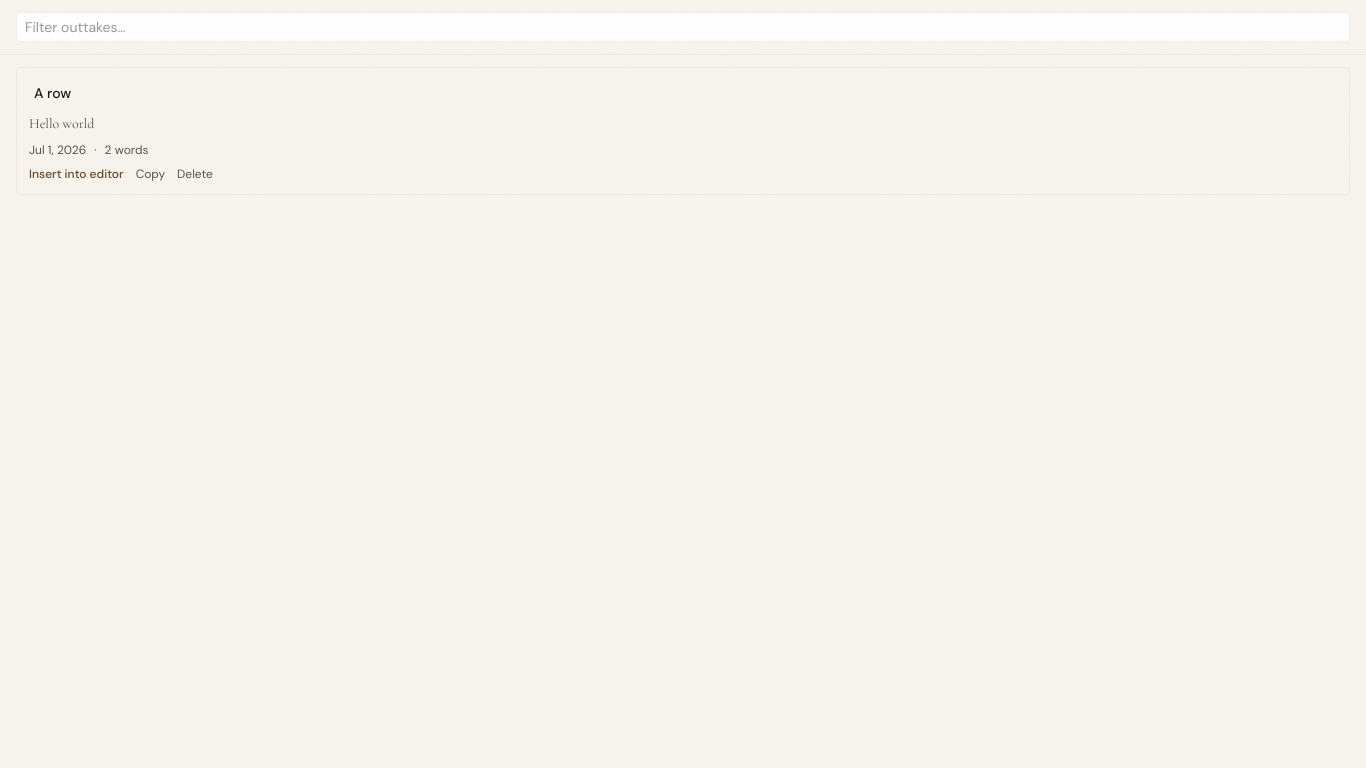
Scenario: OuttakesPanel › a settling list load does not erase an unread write failure (S1)
Expected: the field showing "A row" is shown, [29,80,1337,106]
Click the button "Delete".
click(195, 174)  # box [177,166,213,182]
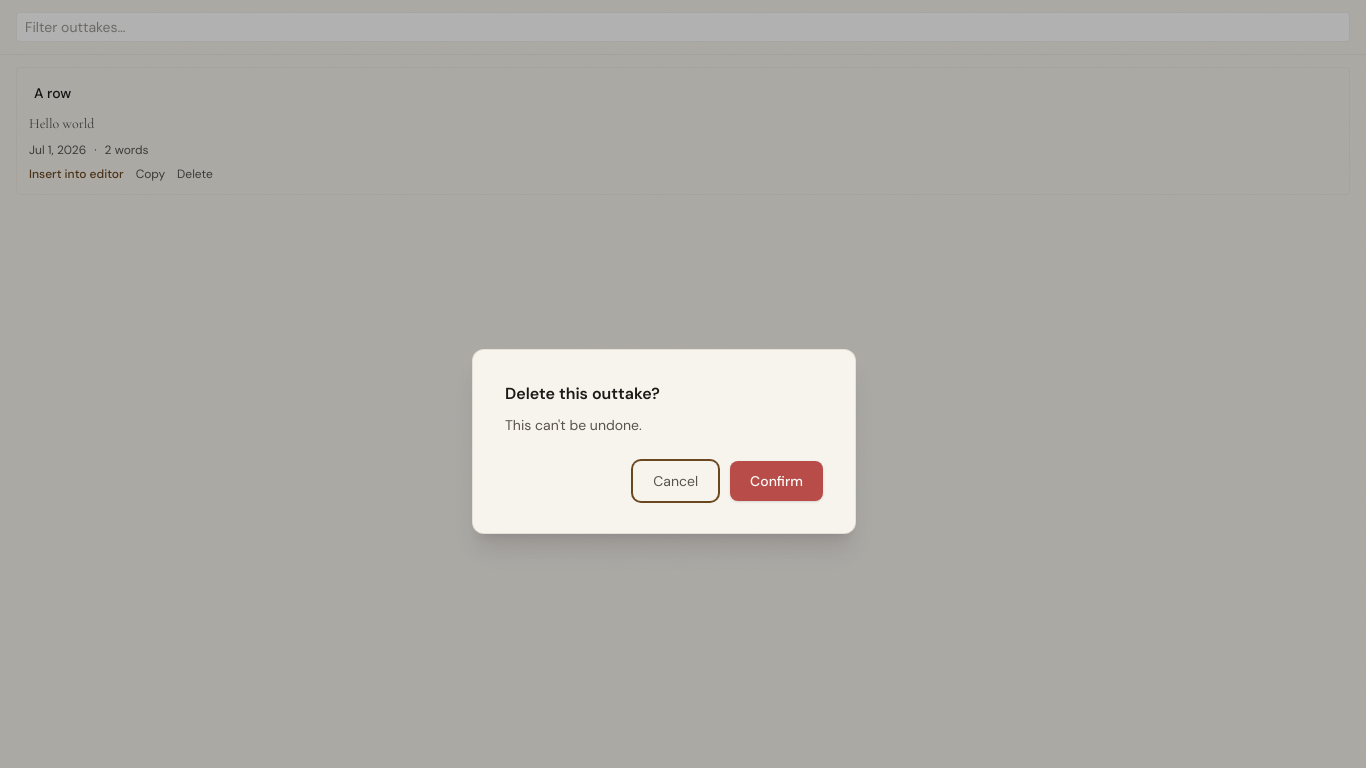
Click the button "Confirm".
click(777, 481)  # box [730,461,823,501]
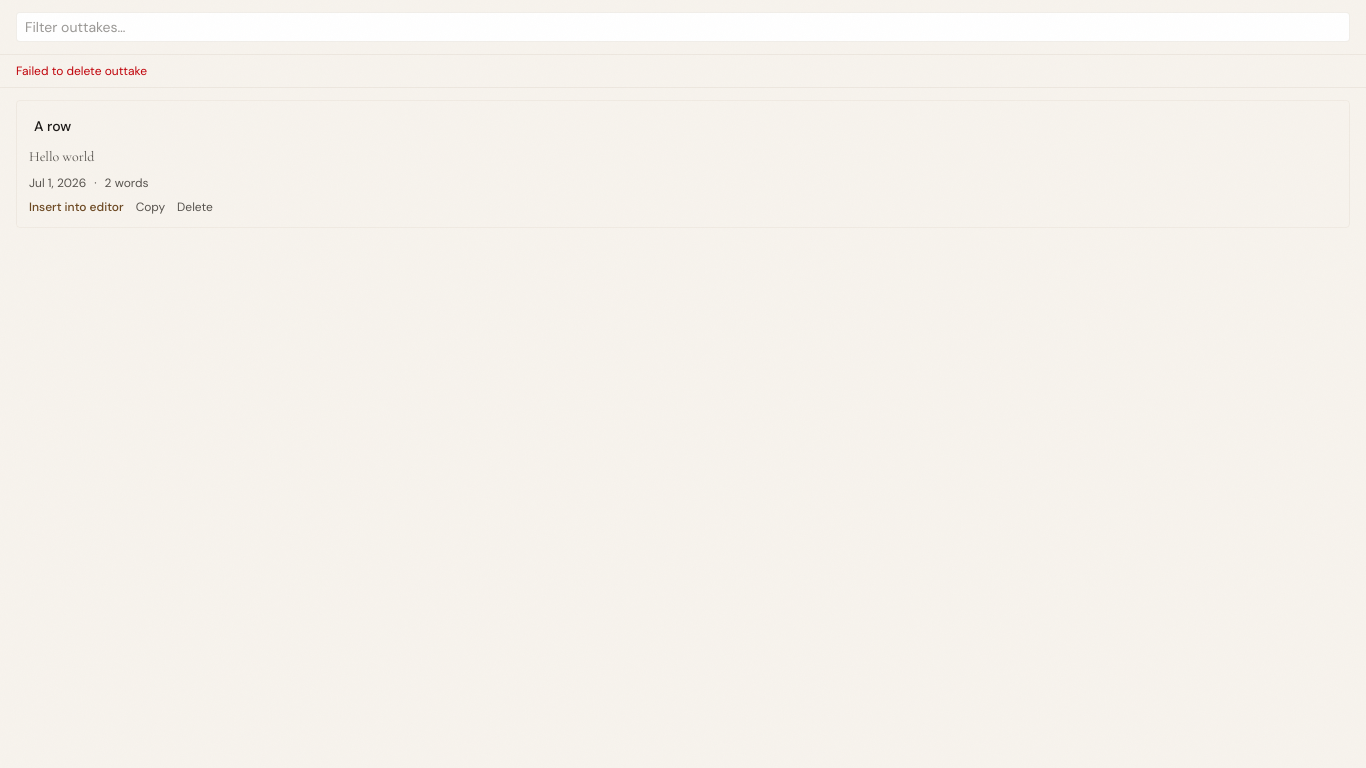
Expected: the field showing "A row" is shown, [29,113,1337,139]
Expected: the text "Failed to delete outtake" is shown, [16,63,147,79]
